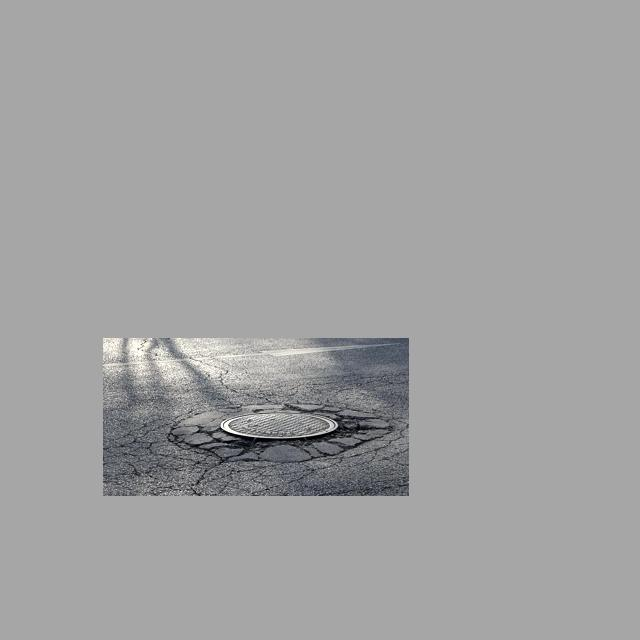circle: (166, 396, 380, 469)
